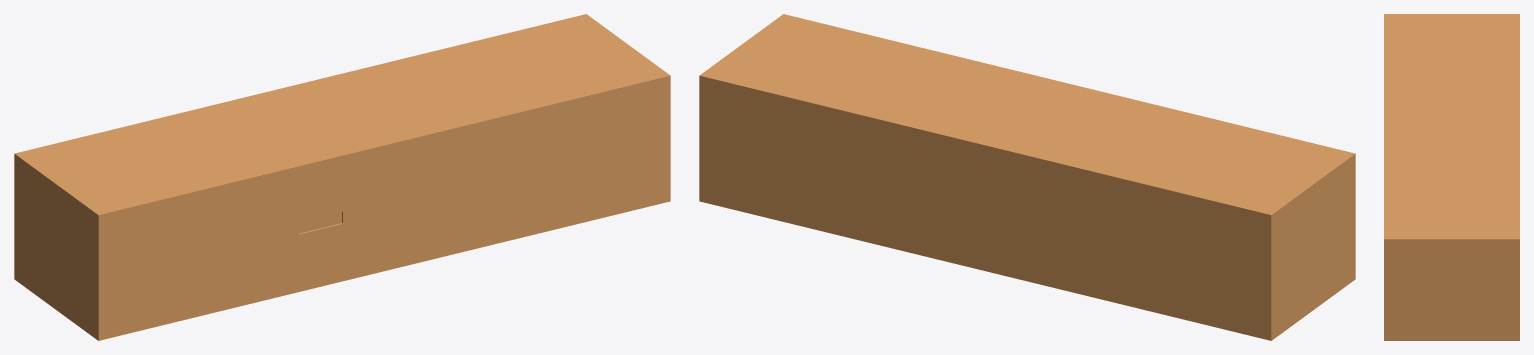
File: EscapeRoom1.fbx
3 views of the same model, side by side, from view 1: azimuth 30°, elevation 25°; view 2: azimuth 150°, elevation 25°; view 3: azimuth 270°, elevation 25° (orthographic). The views are drawn at different scales.
Parts seen in each view (by area): view 1: Cube, Cube.002; view 2: Cube; view 3: Cube.
Part boxes in pixels (x1,y1,x2,y2): Cube: [14, 14, 670, 340]; Cube.002: [298, 211, 341, 233]; Cube: [699, 14, 1355, 340]; Cube: [1384, 14, 1519, 340].
Size of the model in its own units: 5777 by 1472 by 1214.
